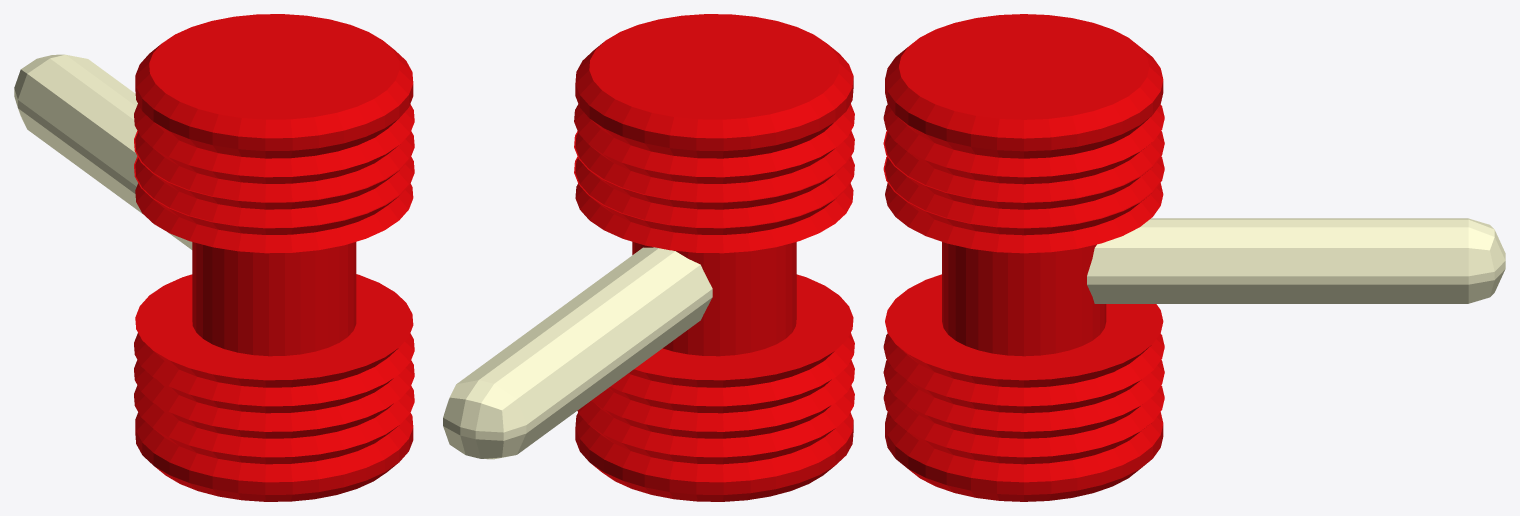
The model's file is Hammer.fbx.
3 renders of one model, left to right at view 1: azimuth 30°, elevation 25°; view 2: azimuth 150°, elevation 25°; view 3: azimuth 270°, elevation 25°, orthographic.
Parts seen in each view (by area): view 1: Head2, Head1, Handle; view 2: Head2, Head1, Handle; view 3: Head2, Head1, Handle.
Boxes of the visible parts, x1,y1,x2,y2 form: Head2: [134, 14, 414, 292]; Head1: [134, 259, 414, 501]; Handle: [14, 54, 192, 249]; Head2: [574, 14, 854, 292]; Head1: [575, 256, 854, 501]; Handle: [443, 247, 712, 459]; Head2: [883, 14, 1164, 292]; Head1: [883, 259, 1164, 501]; Handle: [1087, 218, 1505, 303].
Bounding box in the file's own units: 200 × 300 × 442.
